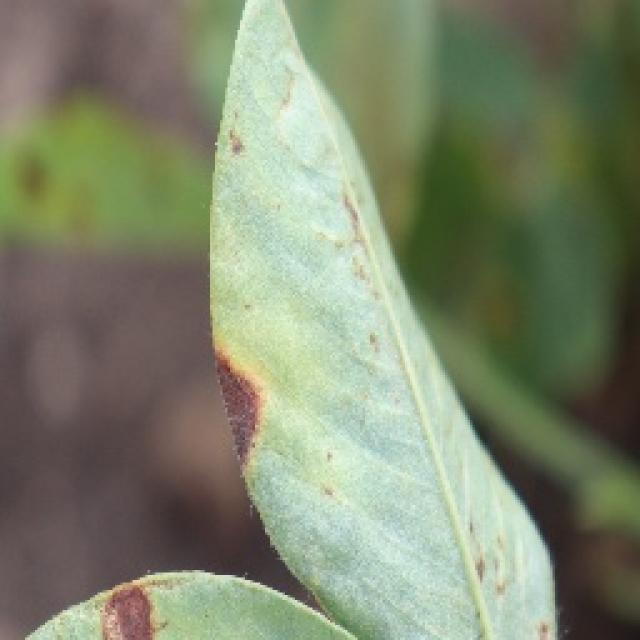Early_leaf_spot: (202, 308, 276, 496), (82, 570, 172, 640), (455, 532, 524, 614), (334, 151, 376, 284), (205, 85, 260, 173)
